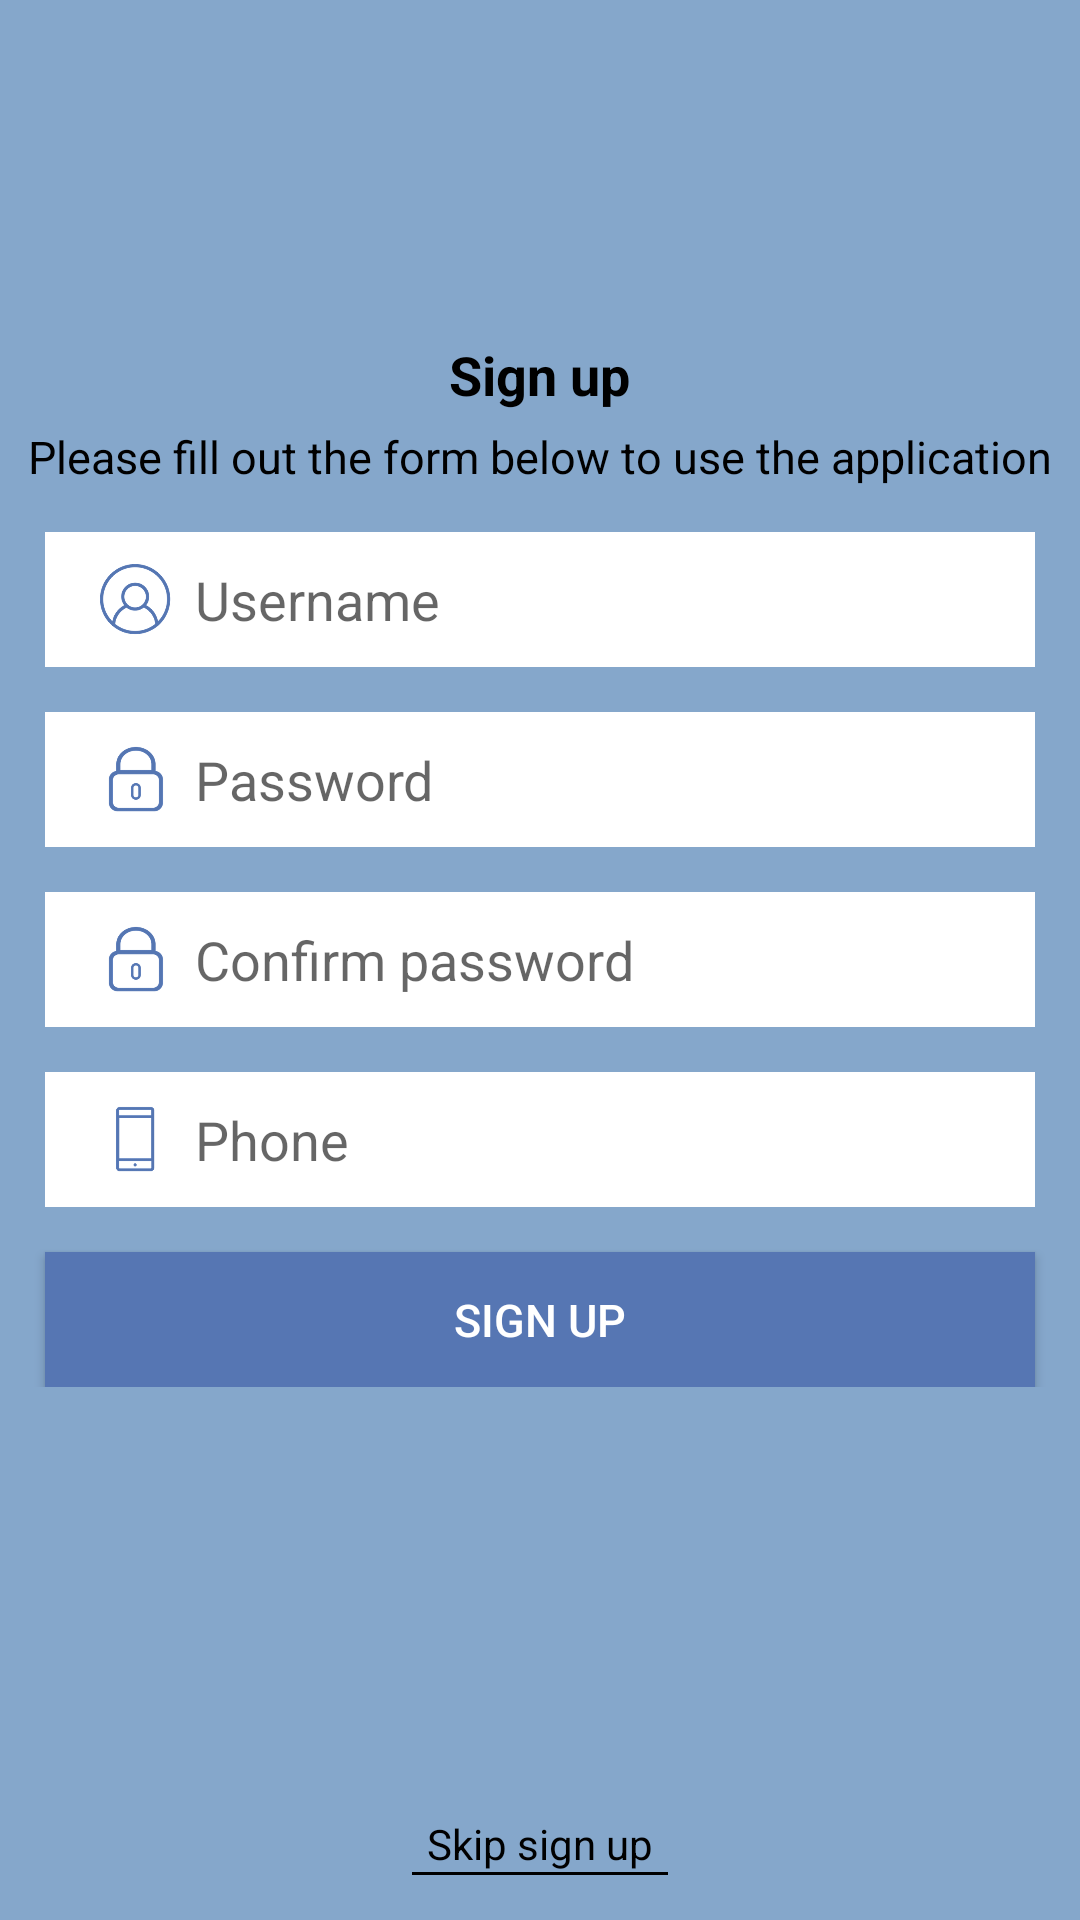

Named icons in this screenshot (1080px×1920px) and their bounding boxes, box=[x1, y1, x2, y2]:
lock: box=[109, 747, 163, 812], box=[109, 927, 163, 992]
profile: box=[100, 564, 171, 634]
